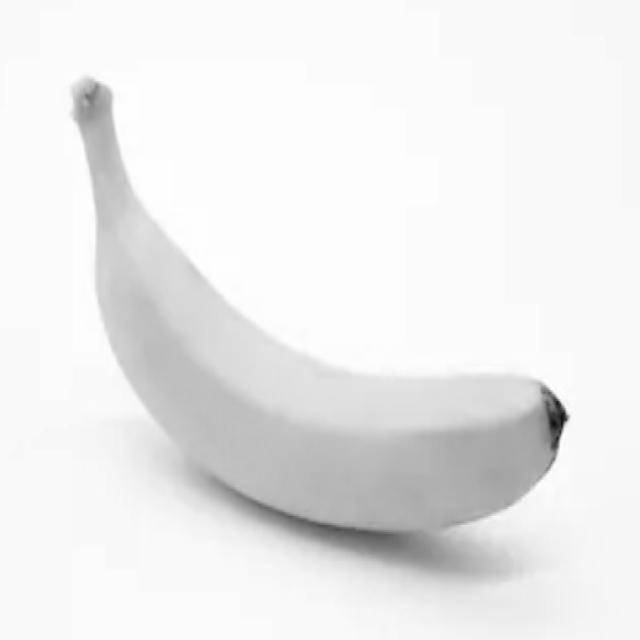Ripe: (57, 71, 573, 561)
